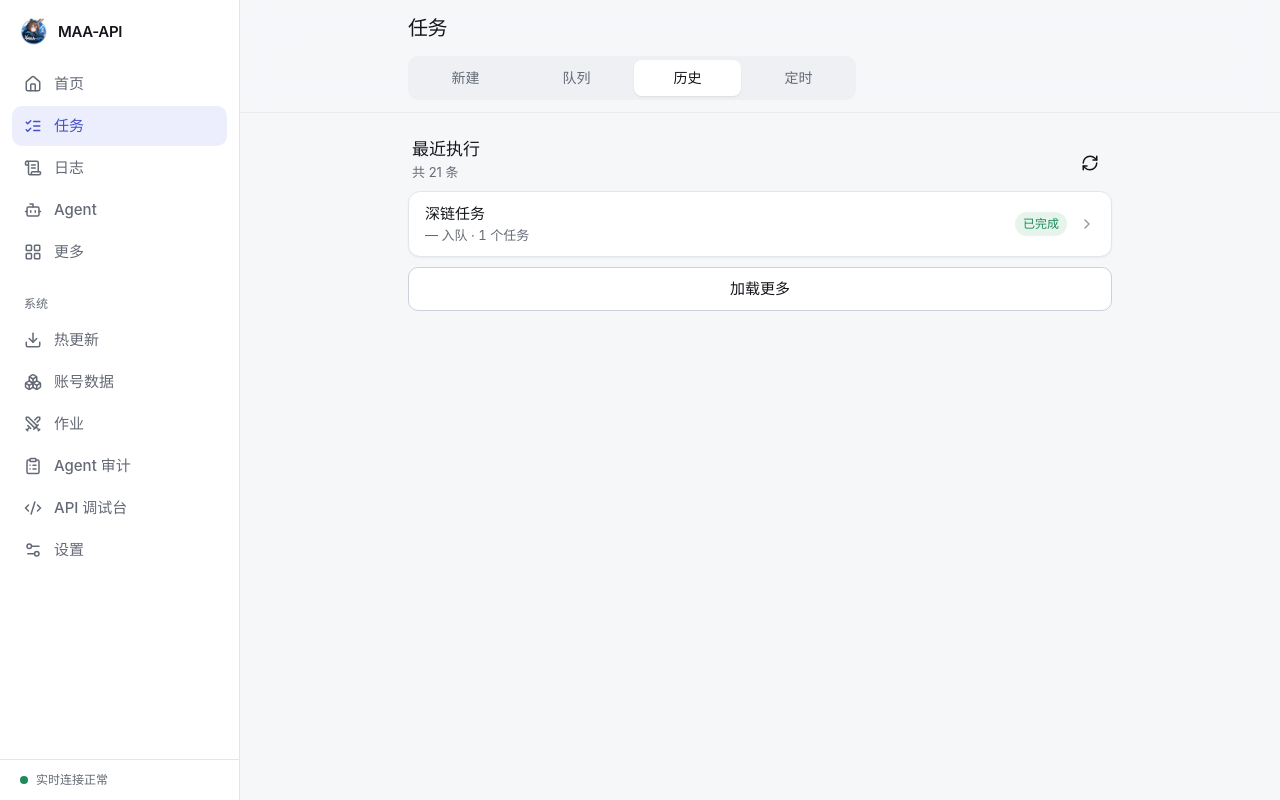
Scenario: task area routes › opens a history row as a detail page and returns to the list (T10)
The image size is (1280, 800).
What coordinates should you click on to do the following:
click the link "深链任务 — 入队 · 1 个任务 已完成"
I would click on:
 (455, 214)
Its box is left=409, top=192, right=1111, bottom=256.
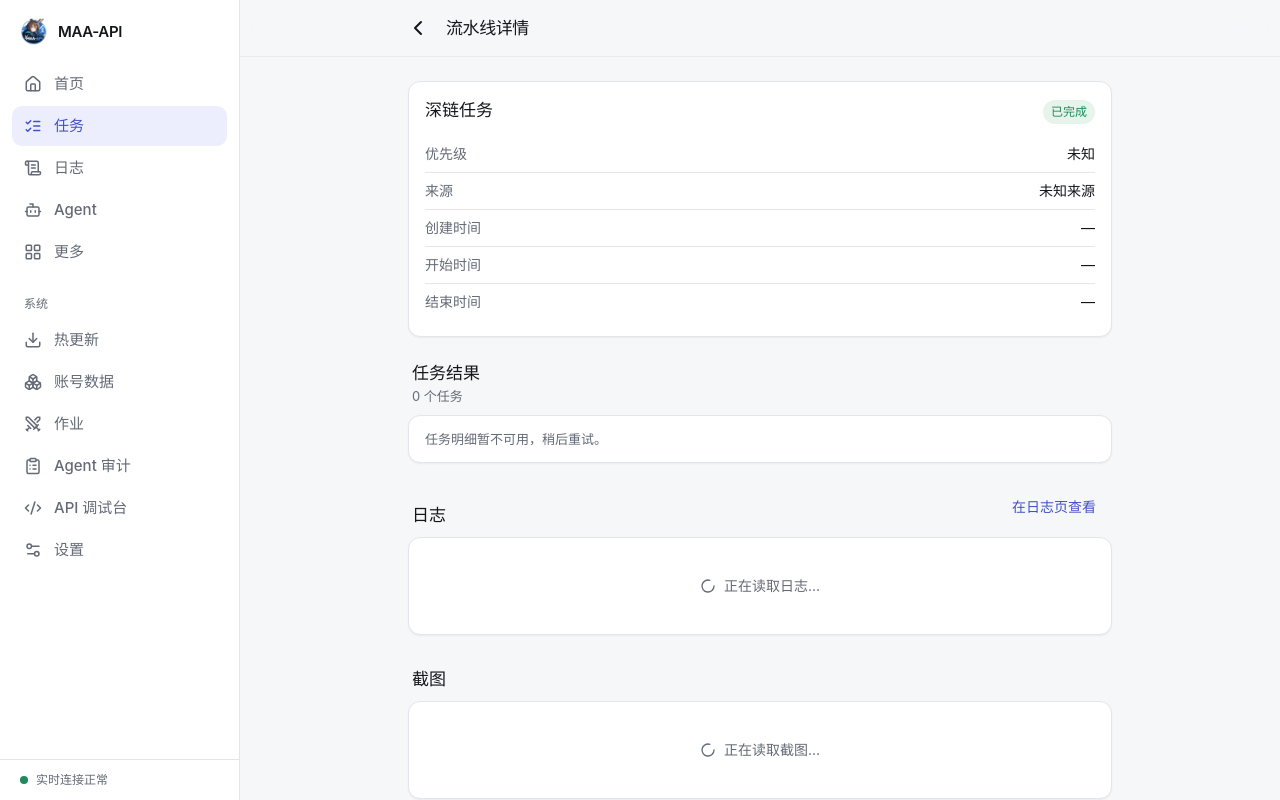
Expected: the heading "深链任务" is shown, left=425, top=98, right=493, bottom=122
What coordinates should you click on to do the following:
click the button named "返回"
I would click on:
 (418, 28)
Its box is left=396, top=6, right=440, bottom=50.
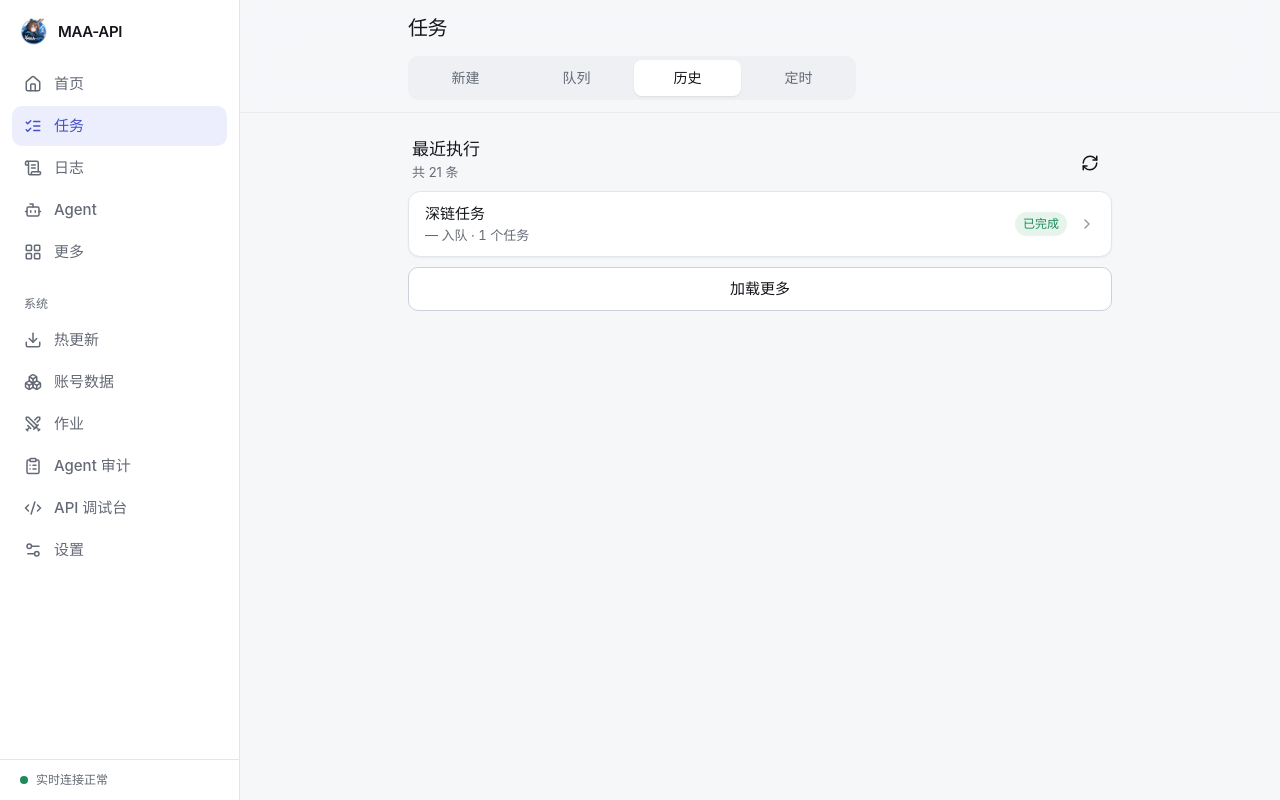
Now the link "深链任务 — 入队 · 1 个任务 已完成" is shown, box left=409, top=192, right=1111, bottom=256
